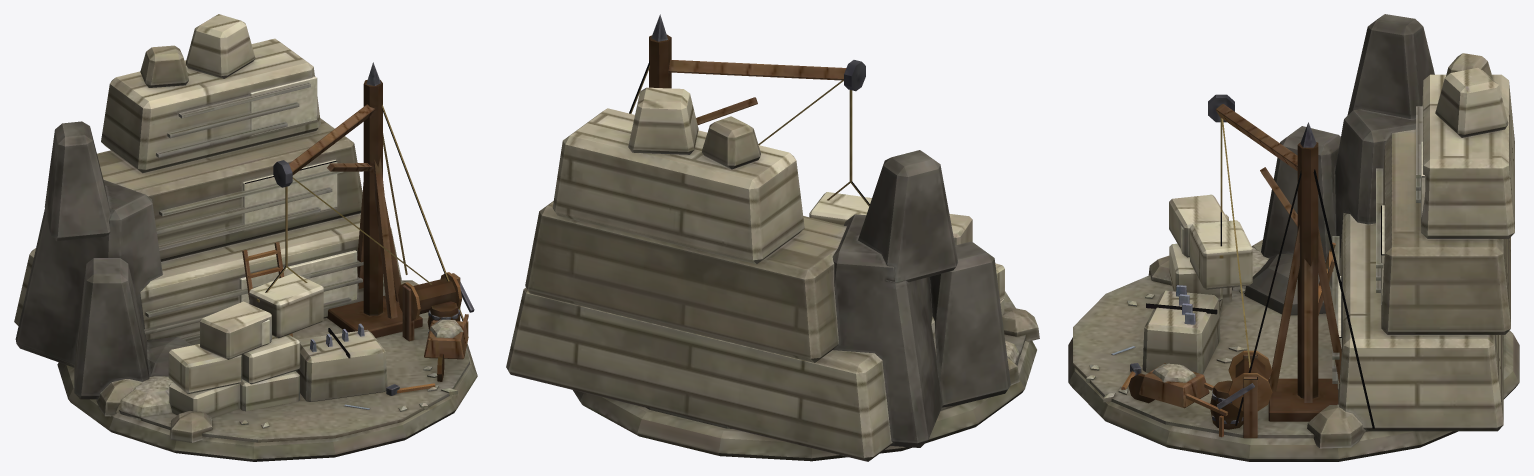
Rendered from stone_quarry.glb.
The picture shows the model from 3 angles, left to right: view 1: azimuth 30°, elevation 25°; view 2: azimuth 150°, elevation 25°; view 3: azimuth 270°, elevation 25°; orthographic projection. The views are drawn at different scales.
Visible parts, largest first — view 1: Static_Mesh; view 2: Static_Mesh; view 3: Static_Mesh.
Boxes of the visible parts, <box> form: Static_Mesh: <box>14,14,477,461</box>; Static_Mesh: <box>506,14,1039,461</box>; Static_Mesh: <box>1068,14,1519,461</box>.
Size of the model in its own units: 6.41 by 4.7 by 6.21.
1 material, 1 textured.
